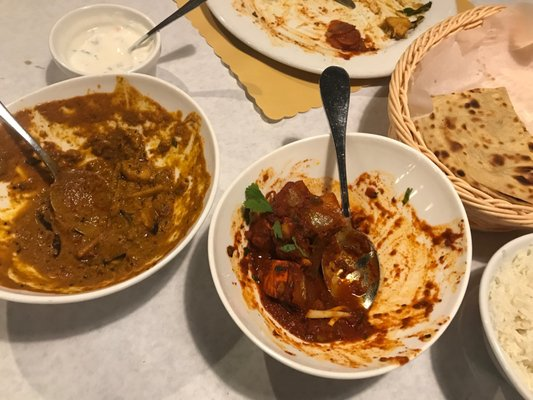burger: (387, 39, 533, 222)
salad: (319, 65, 354, 222), (0, 98, 59, 185), (127, 0, 208, 52)
sandwich: (128, 0, 209, 53)
sushi: (208, 133, 473, 378), (0, 72, 219, 307), (478, 230, 533, 400), (48, 2, 162, 78)
